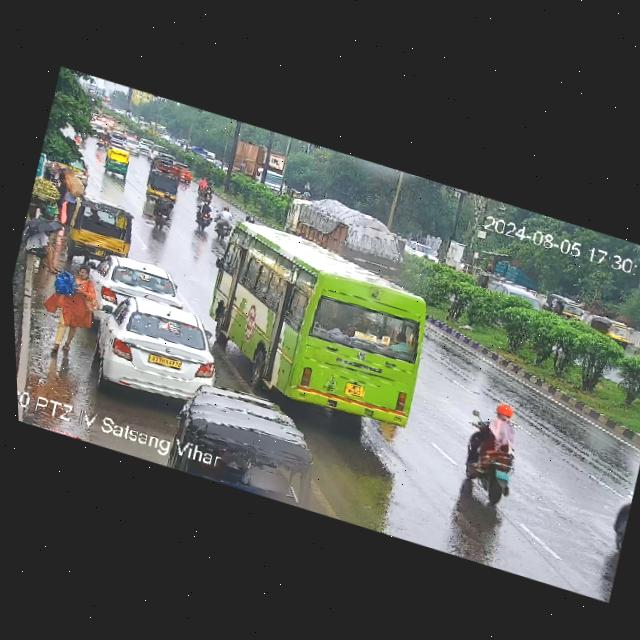bus: (189, 211, 450, 443), (222, 135, 294, 198)
car: (84, 288, 233, 419), (86, 249, 195, 340), (62, 190, 142, 274), (606, 473, 640, 553), (487, 280, 545, 313), (588, 314, 637, 352), (141, 164, 185, 206), (541, 292, 590, 328), (99, 145, 136, 182), (167, 158, 198, 186), (145, 141, 175, 164), (119, 136, 145, 158), (195, 174, 209, 194)
motorcycle: (448, 392, 538, 511), (53, 174, 88, 231), (144, 186, 181, 234), (189, 193, 221, 237), (213, 203, 240, 244), (198, 180, 217, 203)
person: (35, 256, 111, 365), (18, 216, 66, 274), (143, 118, 171, 138)
truck: (280, 186, 412, 277), (404, 238, 444, 266)
